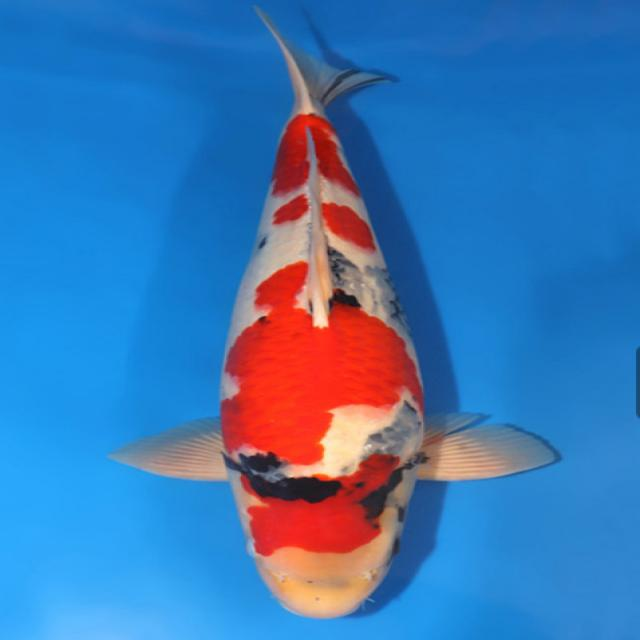Showa: (107, 4, 560, 619)
